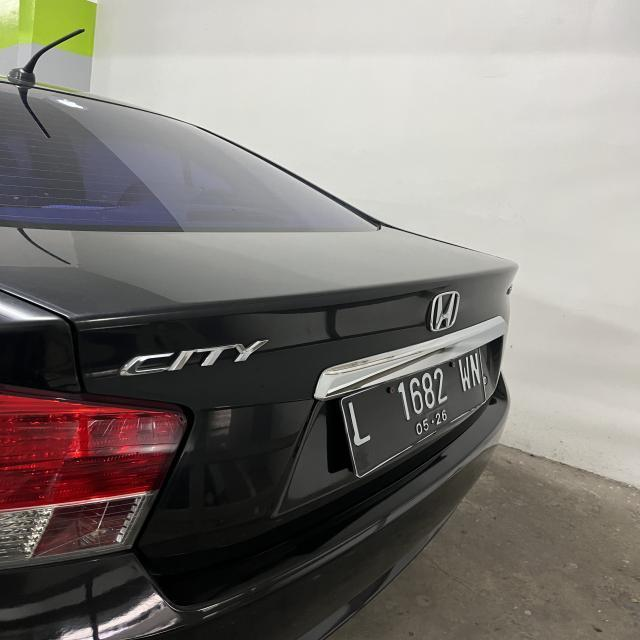1: (398, 382, 410, 424)
2: (433, 368, 450, 404)
6: (409, 376, 423, 418)
8: (422, 372, 434, 408)
L: (347, 399, 372, 447)
N: (470, 354, 480, 386)
W: (459, 356, 472, 394)
